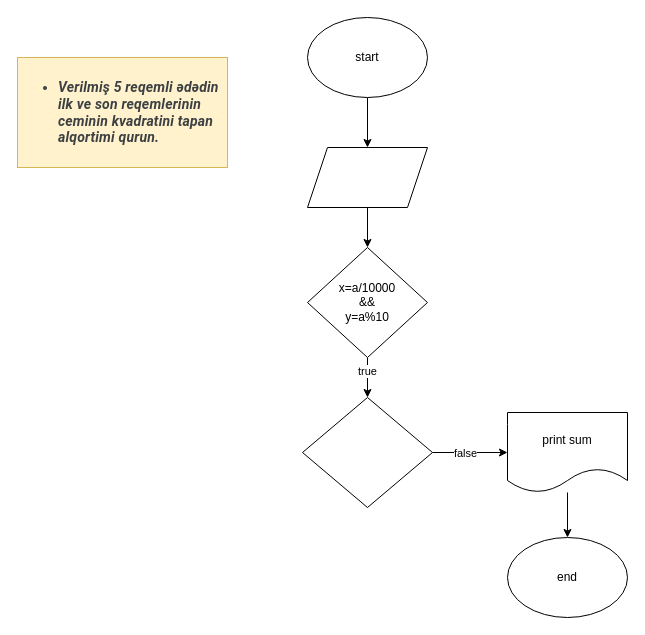
This 645x635 diagram has some shape labels left out. The centre of each missing label's shape, as x and y in pixels:
"a x ; y sum;sum1" belongs at point (367, 177).
"sum1=x+y sum=sum1*sum1" belongs at point (367, 452).
